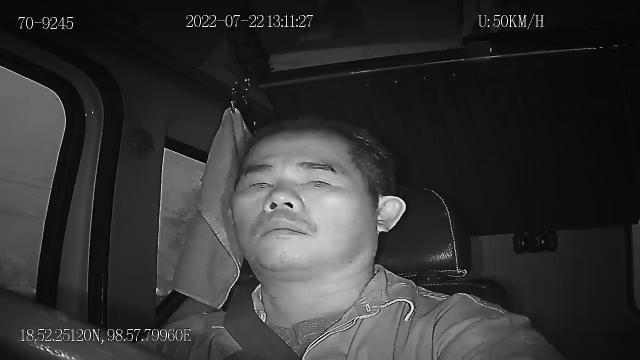SafeDriving: (293, 166, 344, 195), (240, 170, 278, 197)
Seatbelt: (222, 284, 302, 360)
